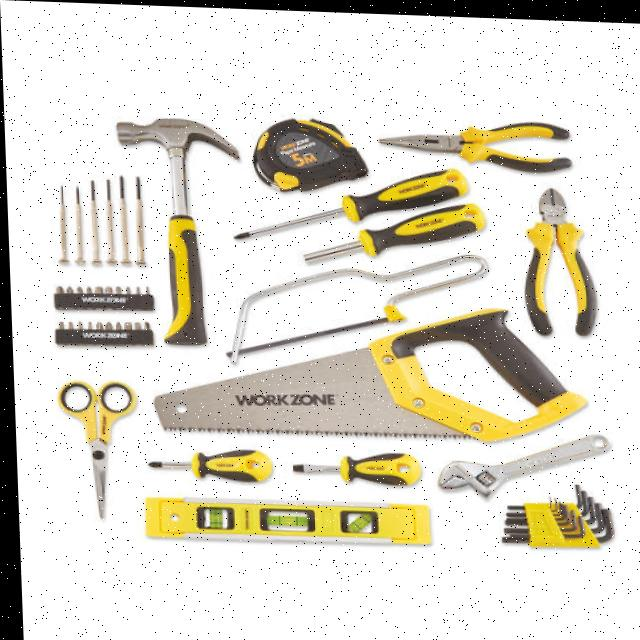Screwdriver: (232, 165, 466, 238), (303, 200, 483, 259), (288, 450, 418, 482), (145, 448, 270, 480)
